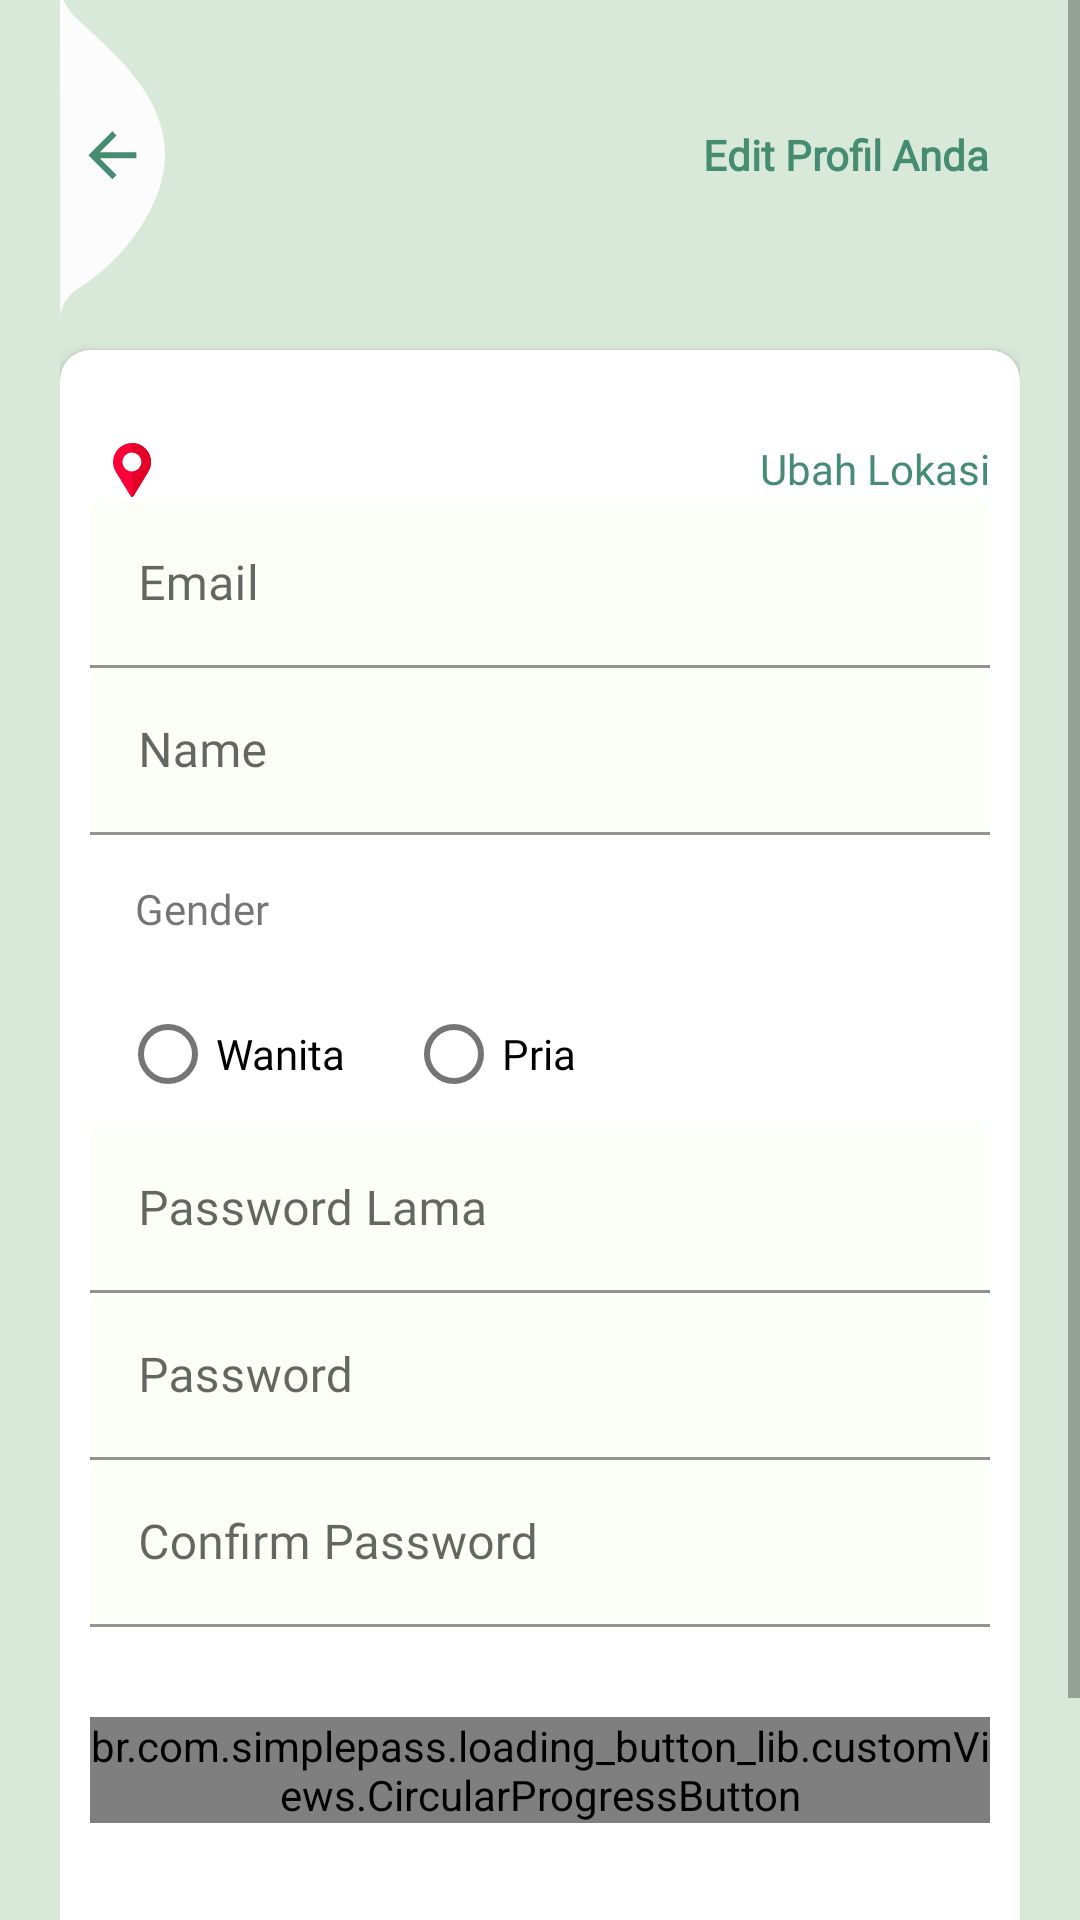

Icons on this 1080x1920 Android screen, each with the point to tap as [x,y]:
back logreg: [112,157]
